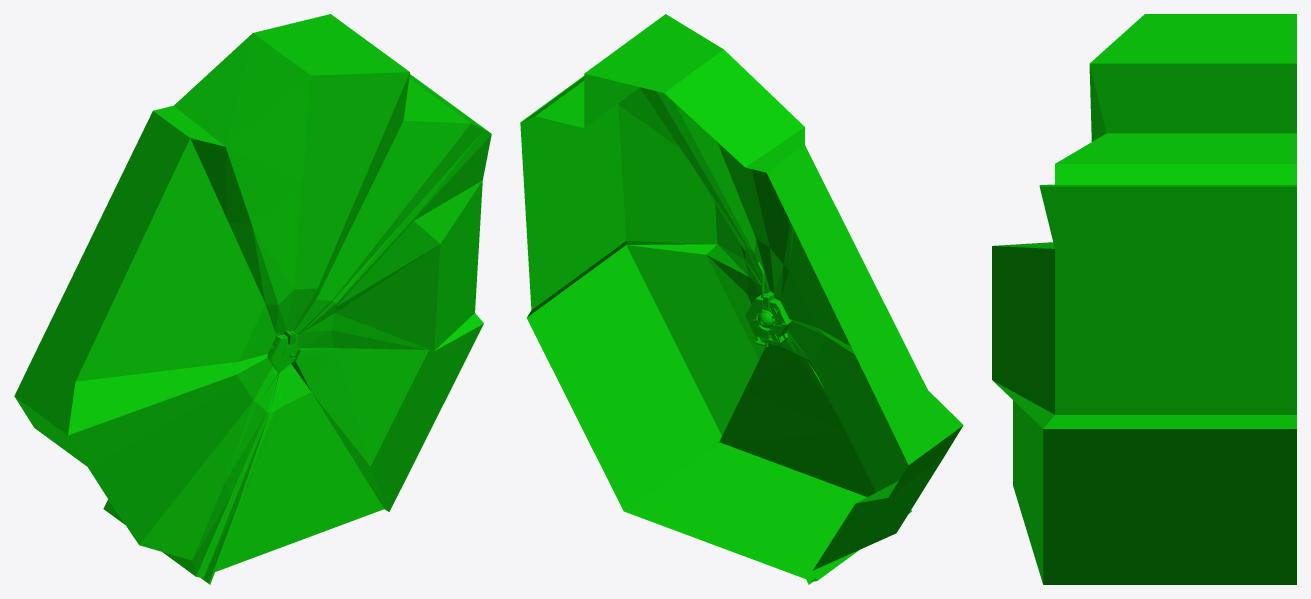
The model's file is final_0001_dec.obj.
3 views of the same model, side by side, from view 1: azimuth 30°, elevation 25°; view 2: azimuth 150°, elevation 25°; view 3: azimuth 270°, elevation 25° (orthographic). The views are drawn at different scales.
Parts seen in each view (by area): view 1: Object.050_Brep_019f3785-9111-4e60-9592-9edfd0a38bc6.042; view 2: Object.050_Brep_019f3785-9111-4e60-9592-9edfd0a38bc6.042; view 3: Object.050_Brep_019f3785-9111-4e60-9592-9edfd0a38bc6.042.
Boxes of the visible parts, box(x1,y1,x2,y2) form: Object.050_Brep_019f3785-9111-4e60-9592-9edfd0a38bc6.042: box(14, 14, 491, 584); Object.050_Brep_019f3785-9111-4e60-9592-9edfd0a38bc6.042: box(520, 14, 963, 584); Object.050_Brep_019f3785-9111-4e60-9592-9edfd0a38bc6.042: box(992, 14, 1296, 584).
Bounding box in the file's own units: 6554 × 7364 × 3496.
